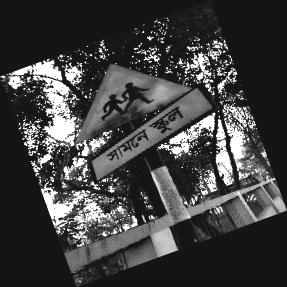School-in-front: (78, 61, 217, 183)
